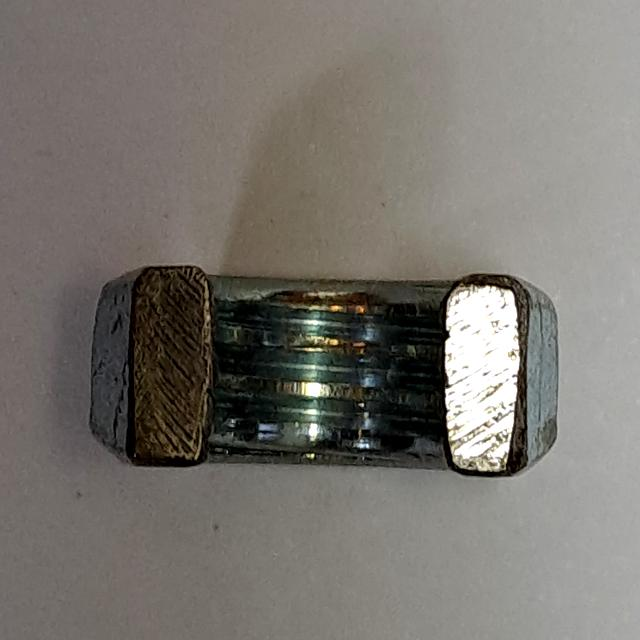Side-Fracture: (68, 243, 578, 503)
